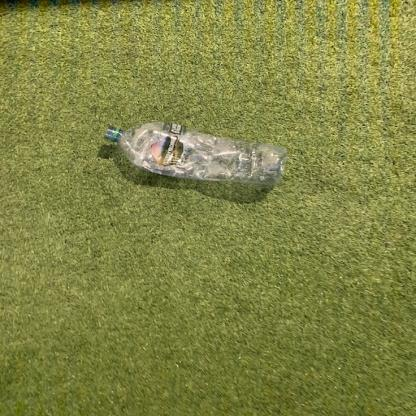trash: (102, 124, 285, 188)
